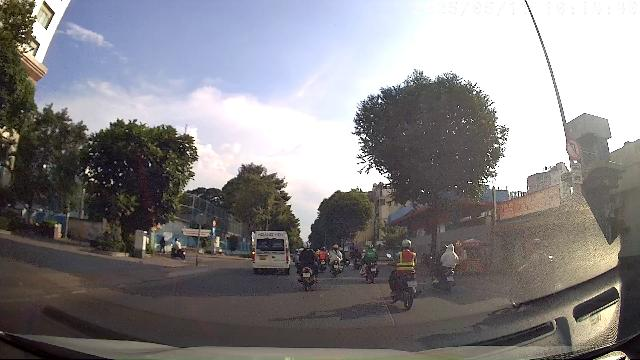123a-cam-re-trai: (566, 138, 582, 160)
